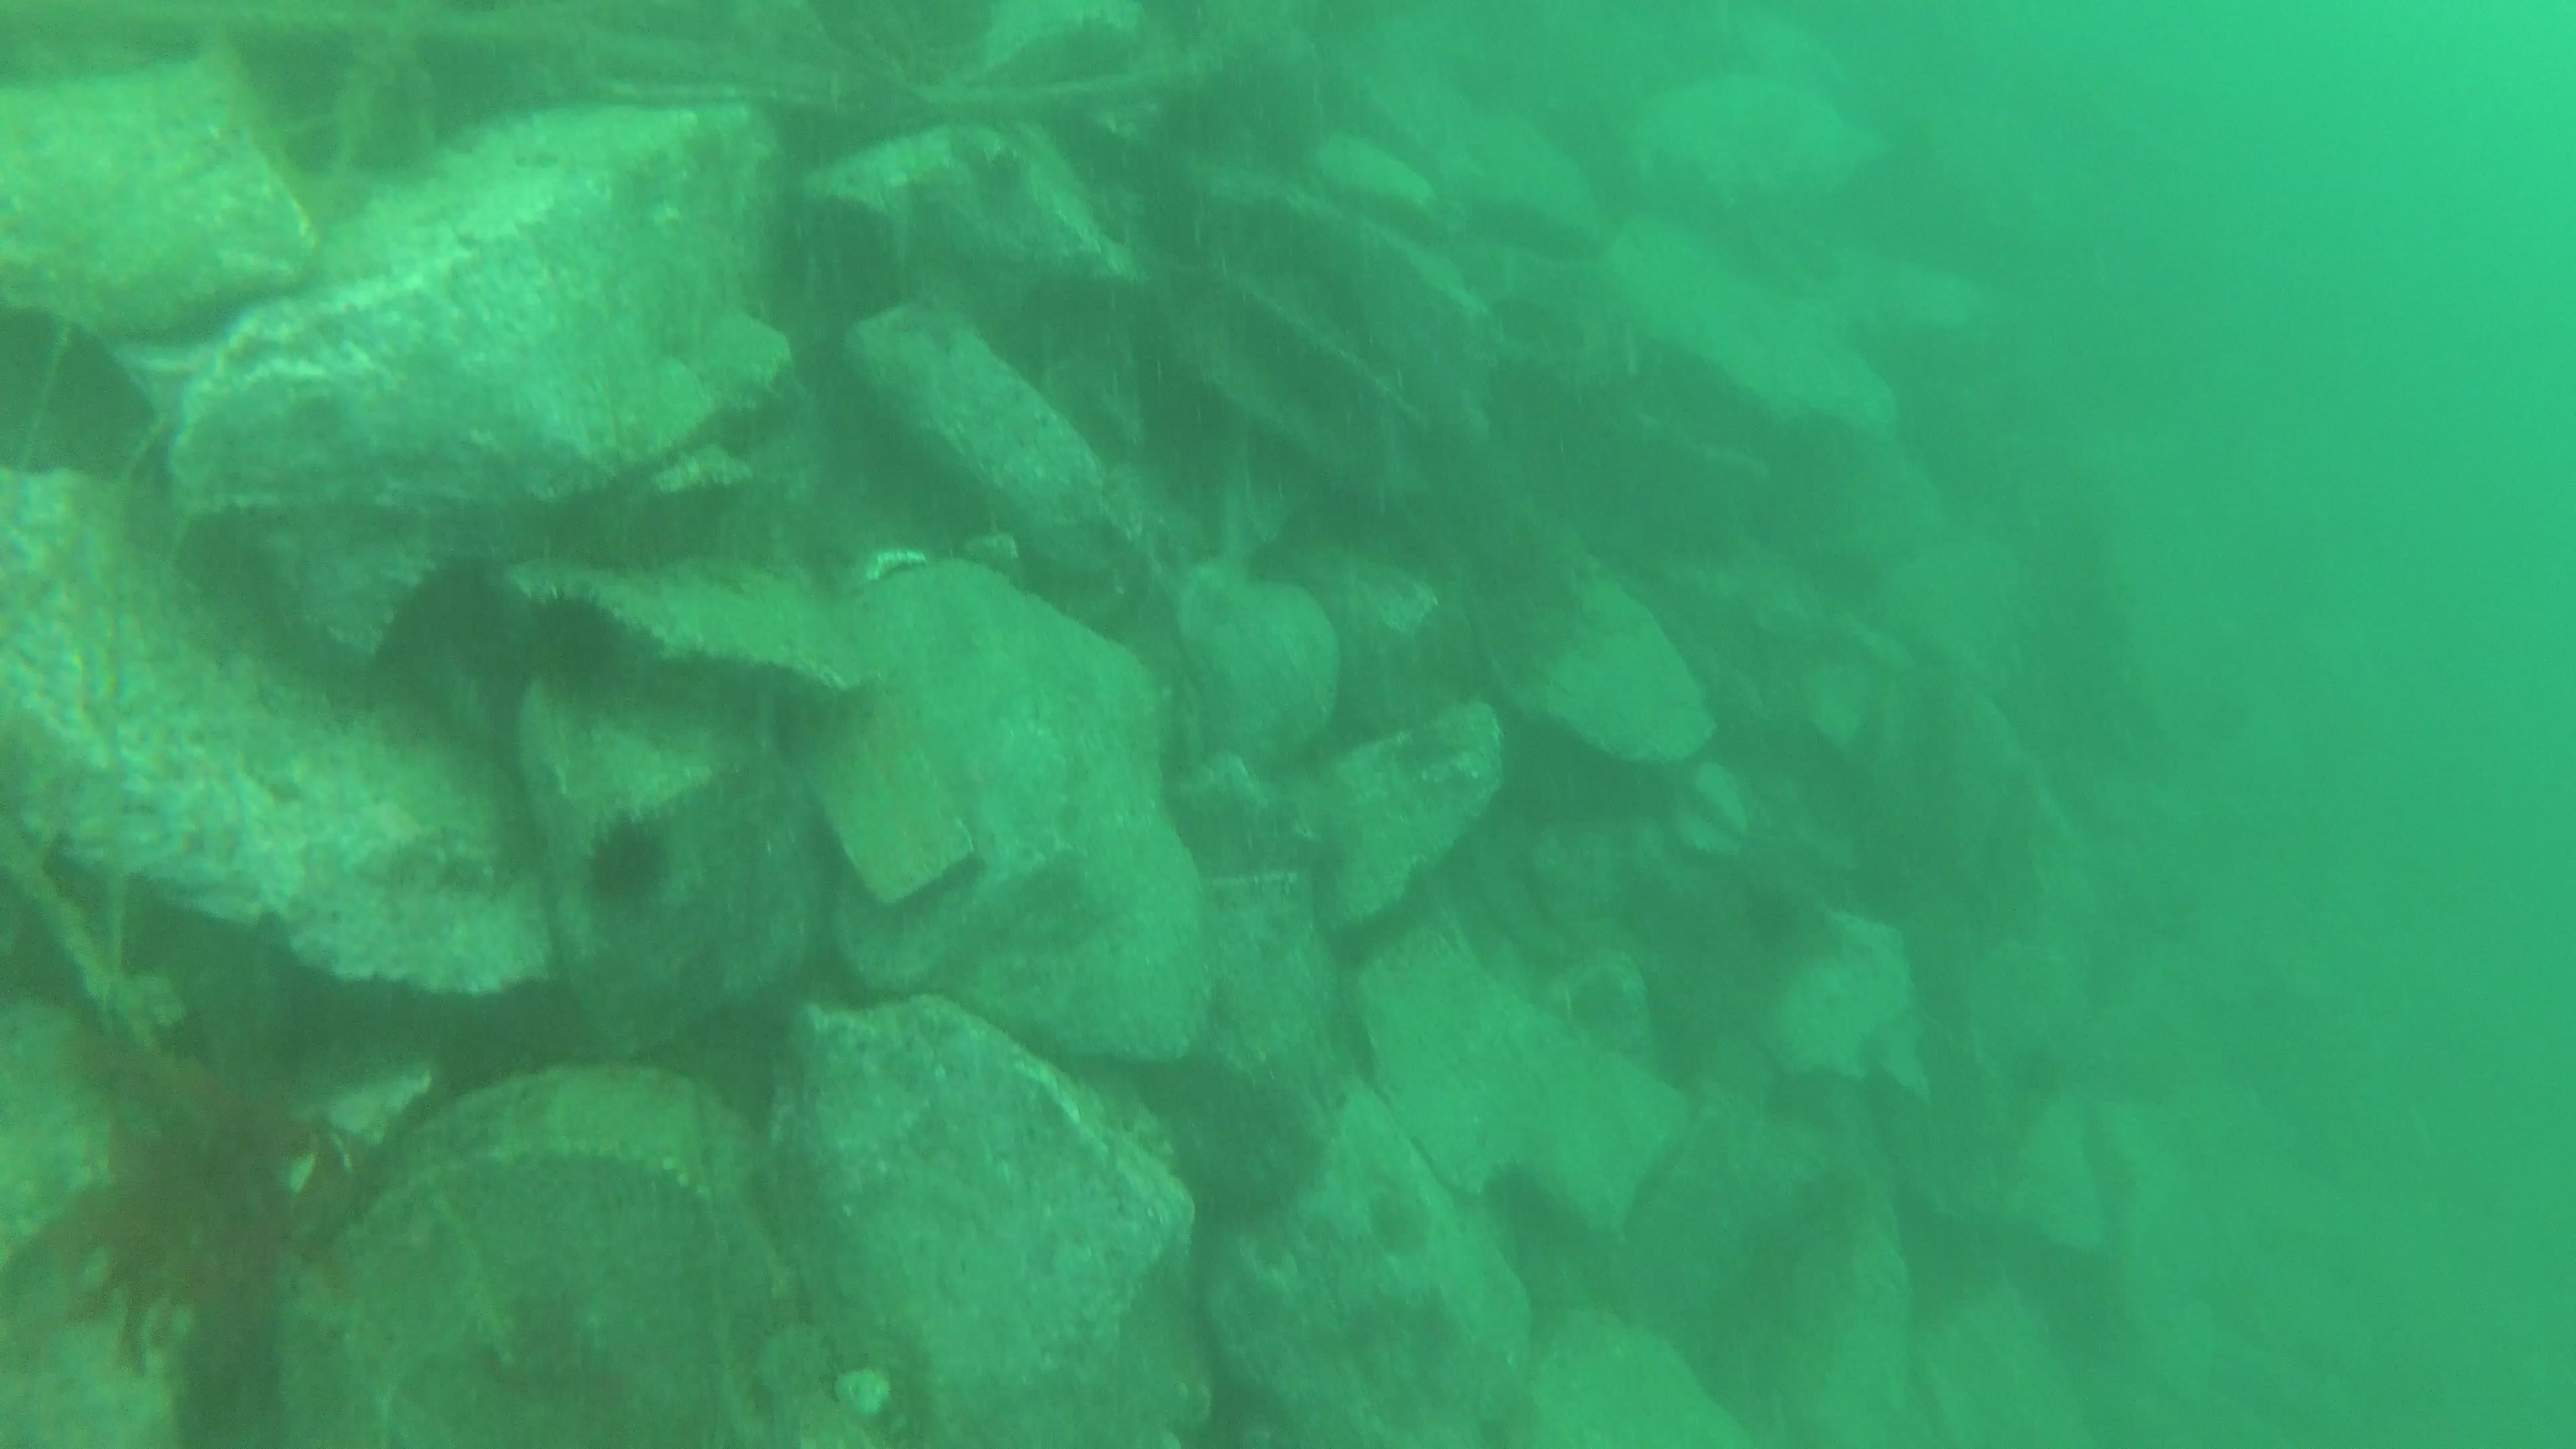echinus: (1143, 1030, 1338, 1231), (508, 586, 628, 695), (586, 810, 685, 911)
